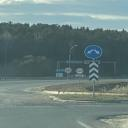speed_limit_100: (64, 67, 72, 73)
speed_limit_120: (74, 67, 86, 74)
